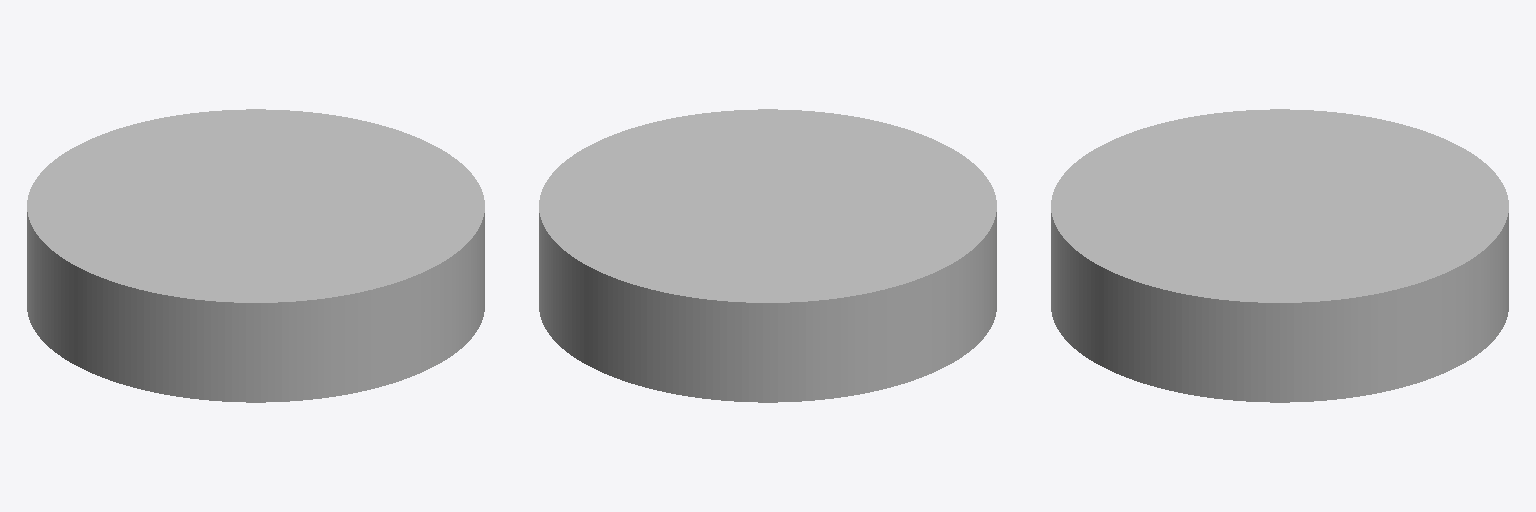
Rendered from layer_tall.obj.
3 views of the same model, side by side, from view 1: azimuth 30°, elevation 25°; view 2: azimuth 150°, elevation 25°; view 3: azimuth 270°, elevation 25° (orthographic).
Parts seen in each view (by area): view 1: Cylinder; view 2: Cylinder; view 3: Cylinder.
Boxes of the visible parts, <box> form: Cylinder: <box>27,109,484,402</box>; Cylinder: <box>539,109,996,402</box>; Cylinder: <box>1051,109,1508,402</box>.
Size of the model in its own units: 0.05 by 0.012 by 0.05.